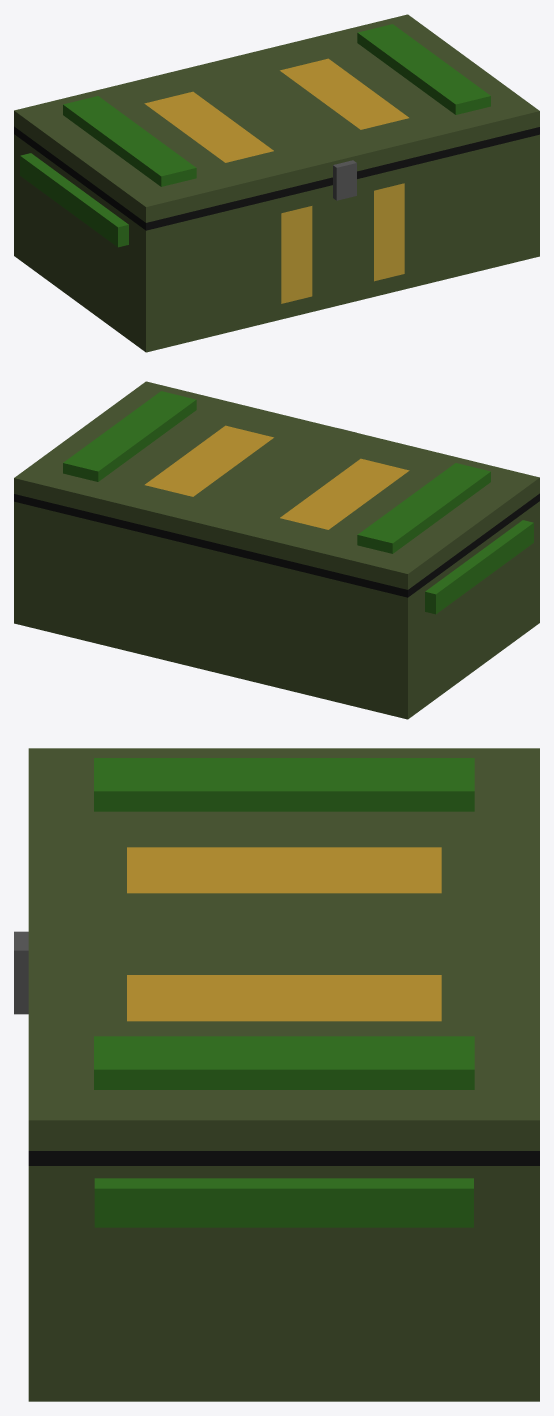
File: AmmoCrate.fbx
3 views of the same model, one above another, from view 1: azimuth 30°, elevation 25°; view 2: azimuth 150°, elevation 25°; view 3: azimuth 270°, elevation 25° (orthographic). The views are drawn at different scales.
Parts seen in each view (by area): view 1: AmmoCrate; view 2: AmmoCrate; view 3: AmmoCrate.
Part boxes in pixels (bbox=[...]): AmmoCrate: bbox=[14, 14, 539, 352]; AmmoCrate: bbox=[14, 381, 539, 719]; AmmoCrate: bbox=[14, 748, 539, 1401].
Size of the model in its own units: 1.33 by 0.4763 by 0.752.
